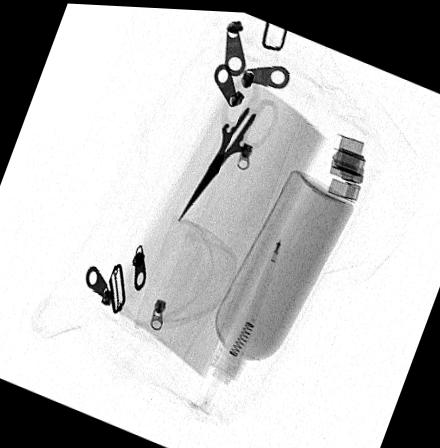Scissors: (177, 66, 281, 220)
